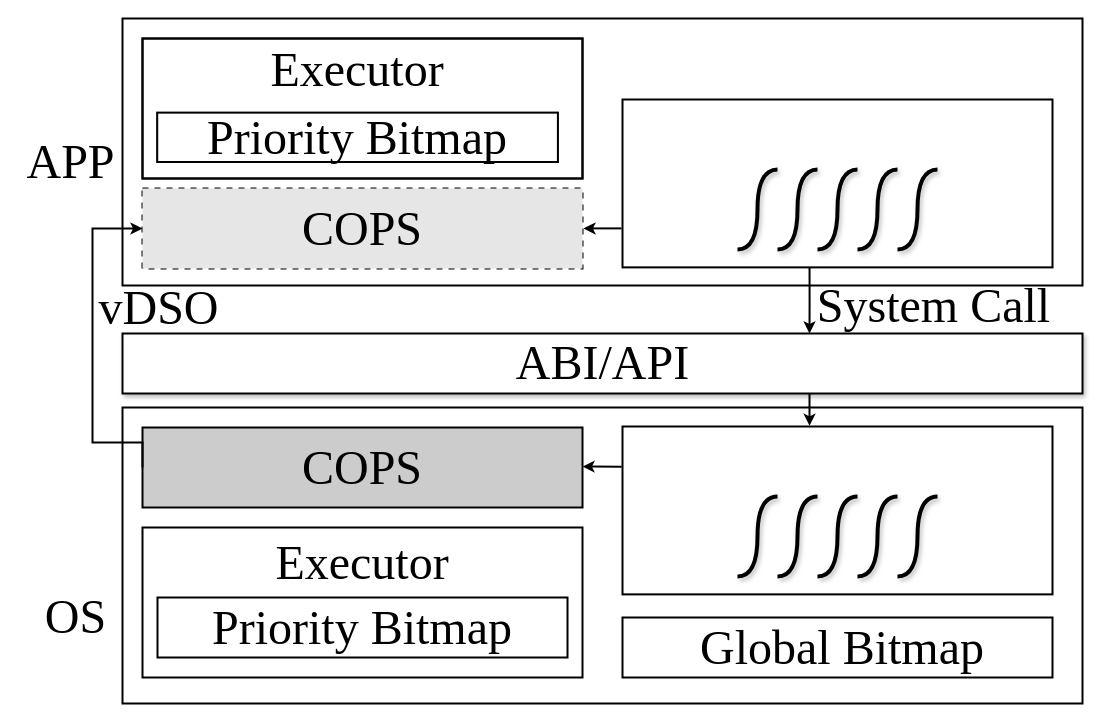
The diagram is 1106 pixels wide and 721 high, and some of its shapes have lost their labels. The centre of each missing label's shape, as x and y in pixels:
Kernel Coroutine: point (837, 510)
User Coroutine: point (837, 182)
